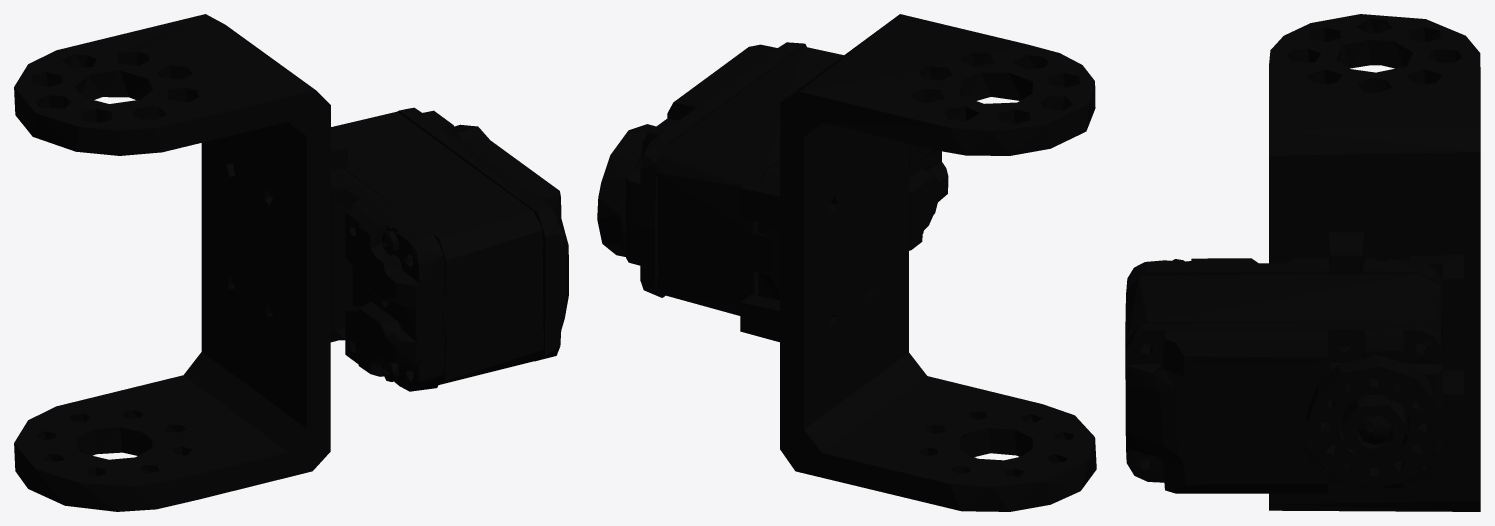
File: servo5_link.dae
3 views of the same model, side by side, from view 1: azimuth 30°, elevation 25°; view 2: azimuth 150°, elevation 25°; view 3: azimuth 270°, elevation 25° (orthographic).
Visible parts, largest first — view 1: servo5_link; view 2: servo5_link; view 3: servo5_link.
Boxes of the visible parts, <box> form: servo5_link: <box>14,14,568,511</box>; servo5_link: <box>597,14,1096,511</box>; servo5_link: <box>1125,14,1480,511</box>.
Bounding box in the file's own units: 0.076 × 0.0503 × 0.06.
Materials: 1 (1 with a texture image).
